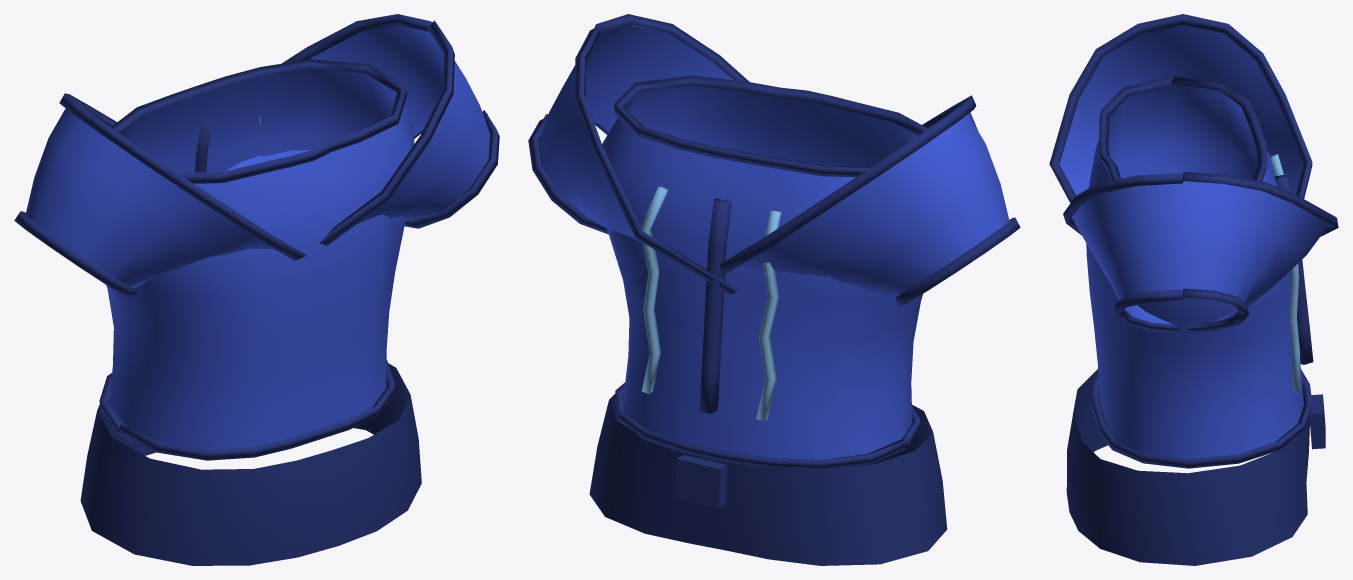
The model's file is shroomite_breastplate.glb.
The picture shows the model from 3 angles, left to right: view 1: azimuth 30°, elevation 25°; view 2: azimuth 150°, elevation 25°; view 3: azimuth 270°, elevation 25°; orthographic projection. The views are drawn at different scales.
Visible parts, largest first — view 1: shroomite_breastplate_chest; view 2: shroomite_breastplate_chest; view 3: shroomite_breastplate_chest.
Part boxes in pixels (x1,y1,x2,y2): shroomite_breastplate_chest: [14, 14, 499, 565]; shroomite_breastplate_chest: [528, 14, 1020, 565]; shroomite_breastplate_chest: [1049, 14, 1338, 565].
Bounding box in the file's own units: 0.6477 × 0.592 × 0.3782.
